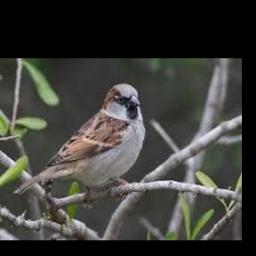Sparrow: (14, 83, 146, 196)
